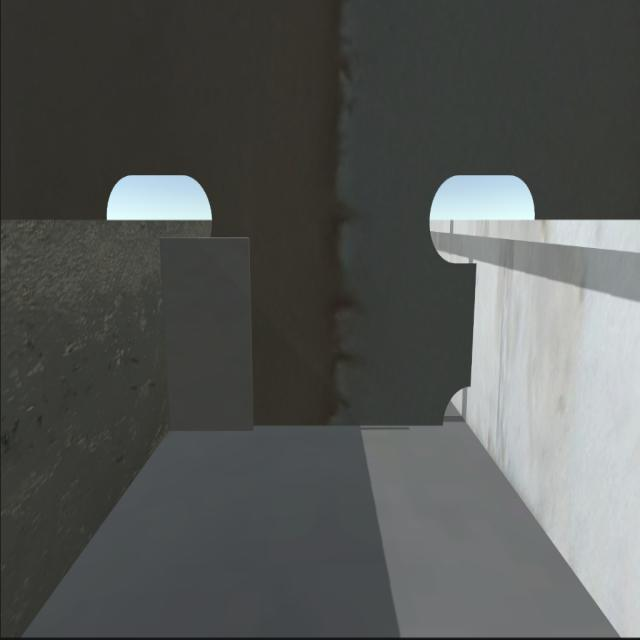fillet_hole: (438, 379, 474, 424)
fillet_yong_jeop_jang: (160, 418, 443, 432)
longi_yong_jeop_jang: (154, 240, 172, 427), (467, 256, 482, 388)
plate_CP01: (162, 232, 254, 433)
